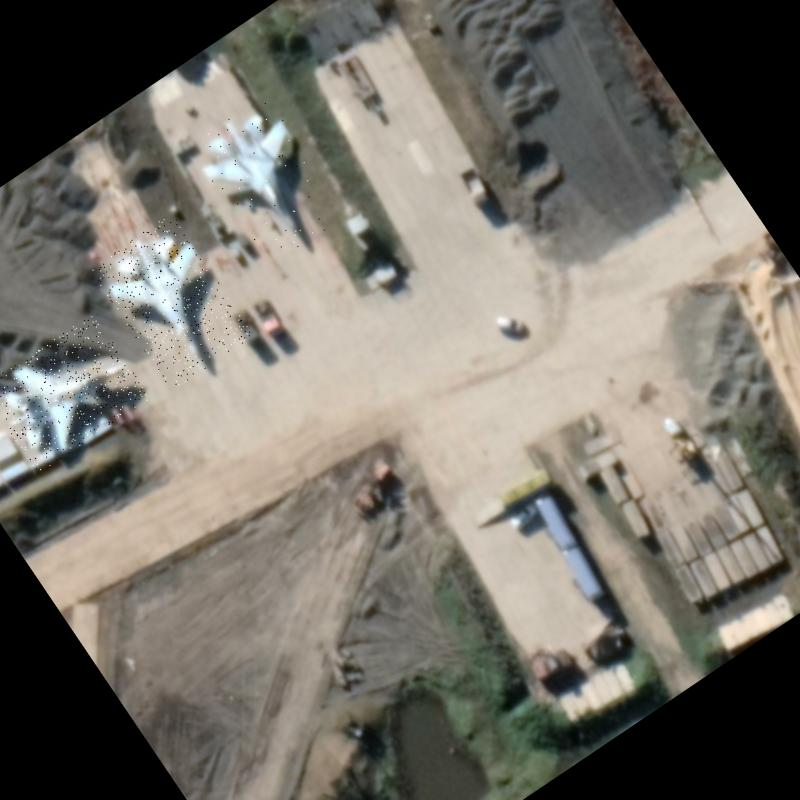A1: (89, 212, 255, 391), (185, 92, 348, 269), (0, 311, 151, 473)
